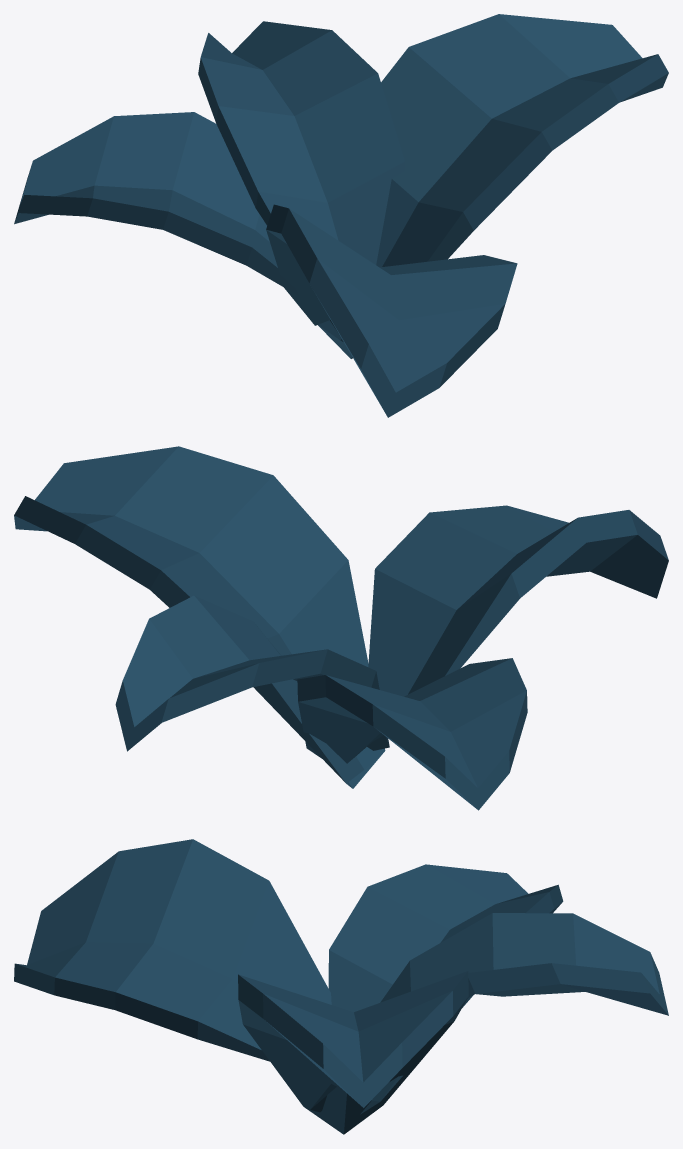
File: fbBush5.fbx
3 renders of one model, top to bottom at view 1: azimuth 30°, elevation 25°; view 2: azimuth 150°, elevation 25°; view 3: azimuth 270°, elevation 25°, orthographic. The views are drawn at different scales.
Visible parts, largest first — view 1: fbBush5; view 2: fbBush5; view 3: fbBush5.
Part boxes in pixels (x1=…): fbBush5: x1=14, y1=14, x2=668, y2=417; fbBush5: x1=14, y1=446, x2=668, y2=810; fbBush5: x1=14, y1=839, x2=668, y2=1134.
Size of the model in its own units: 115 by 49.53 by 122.
